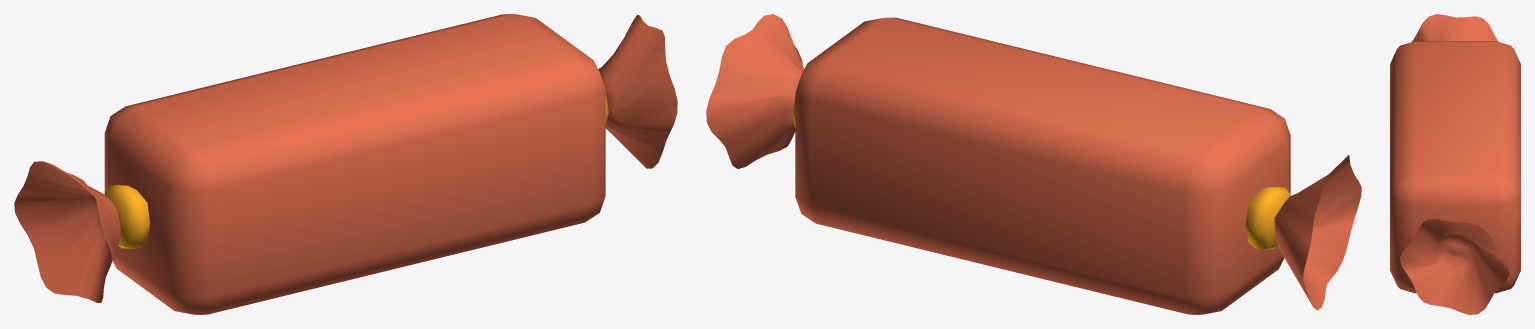
The model's file is Long.fbx.
The picture shows the model from 3 angles, left to right: view 1: azimuth 30°, elevation 25°; view 2: azimuth 150°, elevation 25°; view 3: azimuth 270°, elevation 25°; orthographic projection. The views are drawn at different scales.
Parts seen in each view (by area): view 1: Long; view 2: Long; view 3: Long.
Boxes of the visible parts, x1,y1,x2,y2 form: Long: [14, 14, 677, 314]; Long: [706, 14, 1361, 314]; Long: [1390, 14, 1520, 314].
Size of the model in its own units: 20.76 by 5.42 by 5.42.
